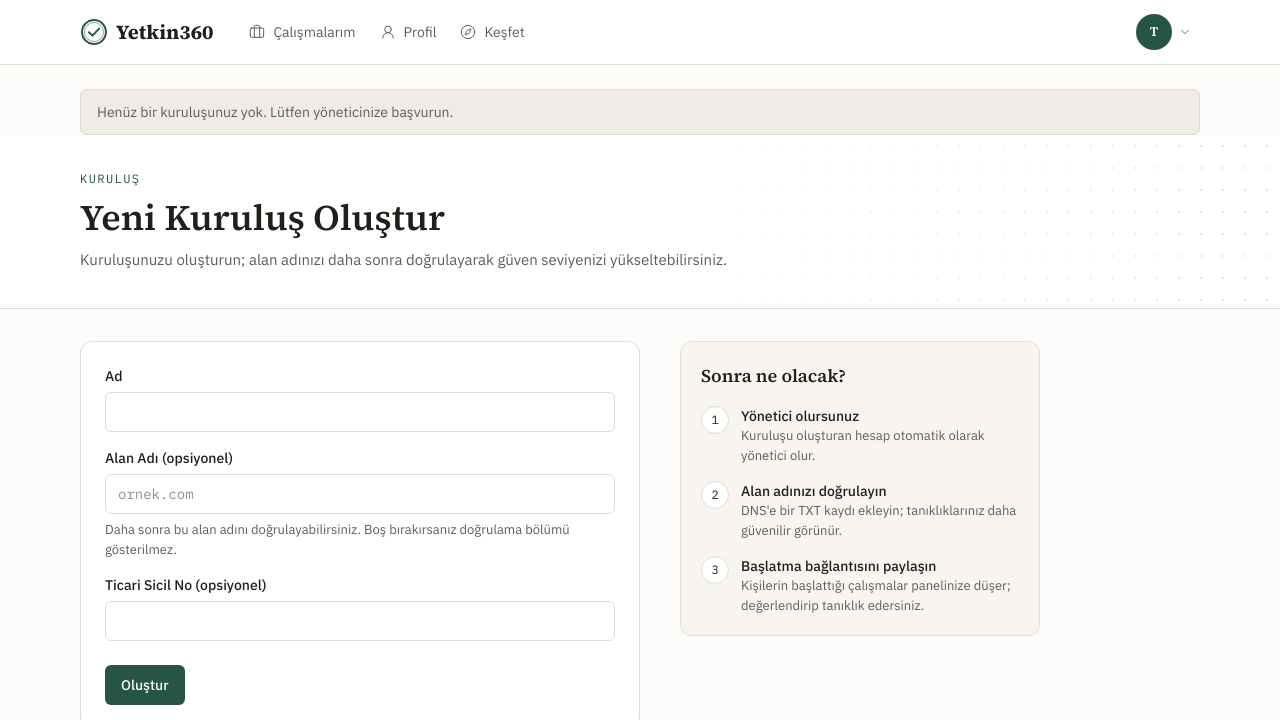
Test: KurulusOlusturPage (/kurulus/olustur) › 409 LEGAL_ID_TAKEN → ilgili hata mesajı gösterilir, yönlendirme olmaz
This screenshot has width=1280, height=720.
Type "x" into the field labelled "Ad" at (360, 412), box x1=105 y1=392 x2=615 y2=432
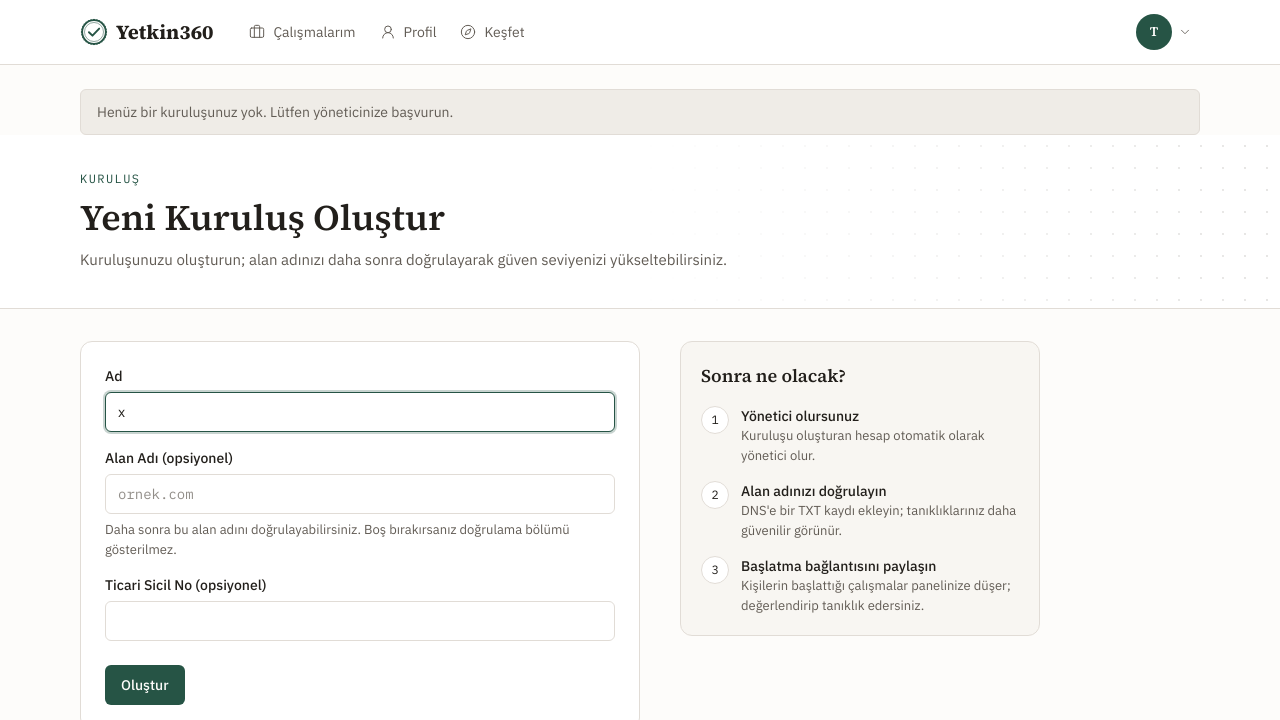
Click the button "Oluştur" at (145, 685), box x1=105 y1=665 x2=185 y2=705
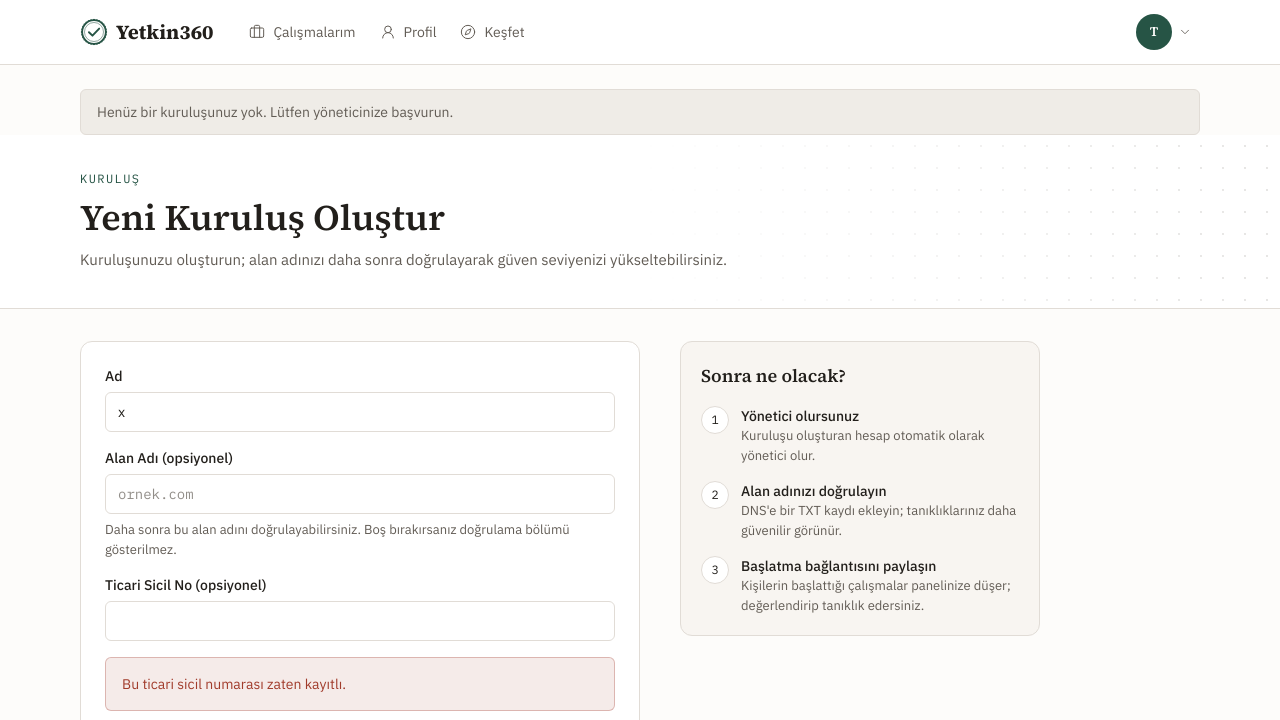
Now the text "Bu ticari sicil numarası zaten kayıtlı." is shown, box x1=105 y1=657 x2=615 y2=711
